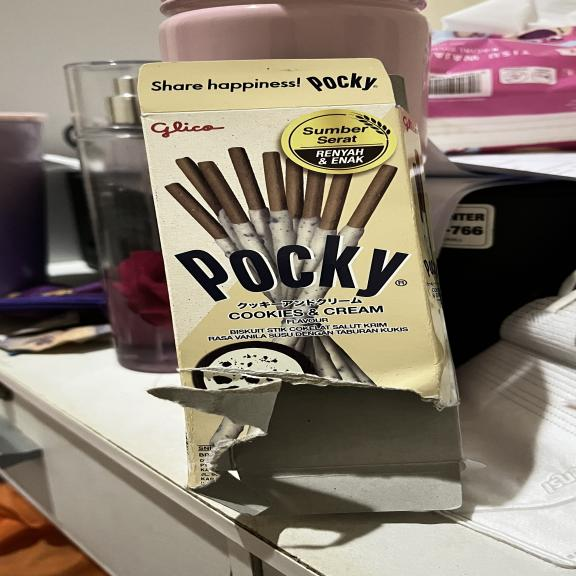Kertas: (142, 107, 465, 481)
